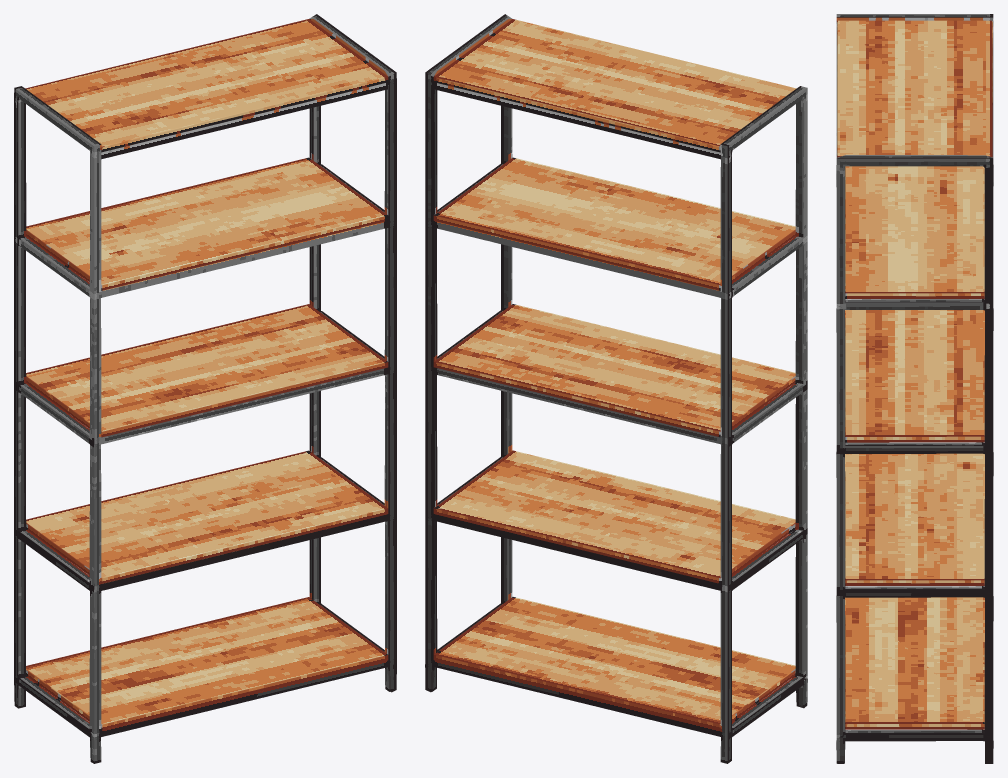
File: steel_frame_shelves_01.glb
The picture shows the model from 3 angles, left to right: view 1: azimuth 30°, elevation 25°; view 2: azimuth 150°, elevation 25°; view 3: azimuth 270°, elevation 25°; orthographic projection. The views are drawn at different scales.
Parts seen in each view (by area): view 1: mesh; view 2: mesh; view 3: mesh.
Boxes of the visible parts, left/top/right/bottom form: mesh: left=14, top=14, right=396, bottom=763; mesh: left=425, top=14, right=807, bottom=763; mesh: left=836, top=14, right=993, bottom=763.
Bounding box in the file's own units: 1.1 × 2.14 × 0.5017.
Materials: 1 (1 with a texture image).
